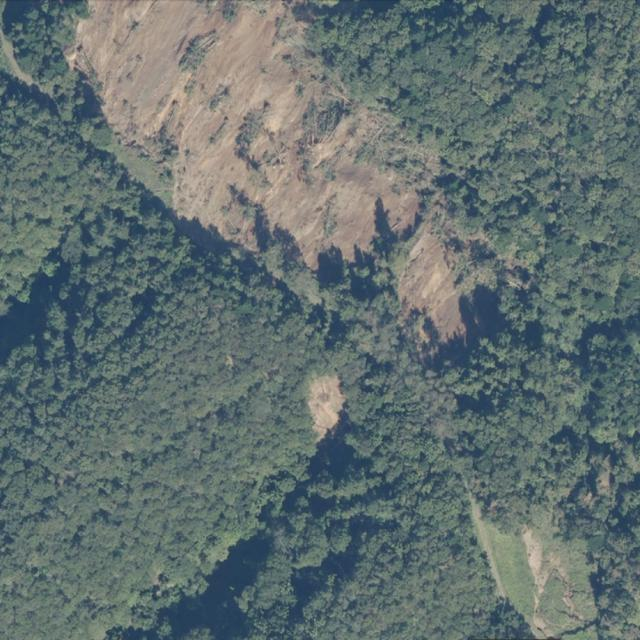landslide: (68, 0, 467, 355)
